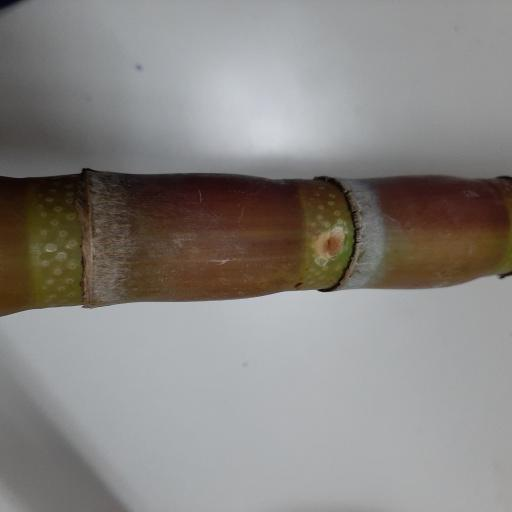Damage_Bud: (314, 224, 348, 263)
